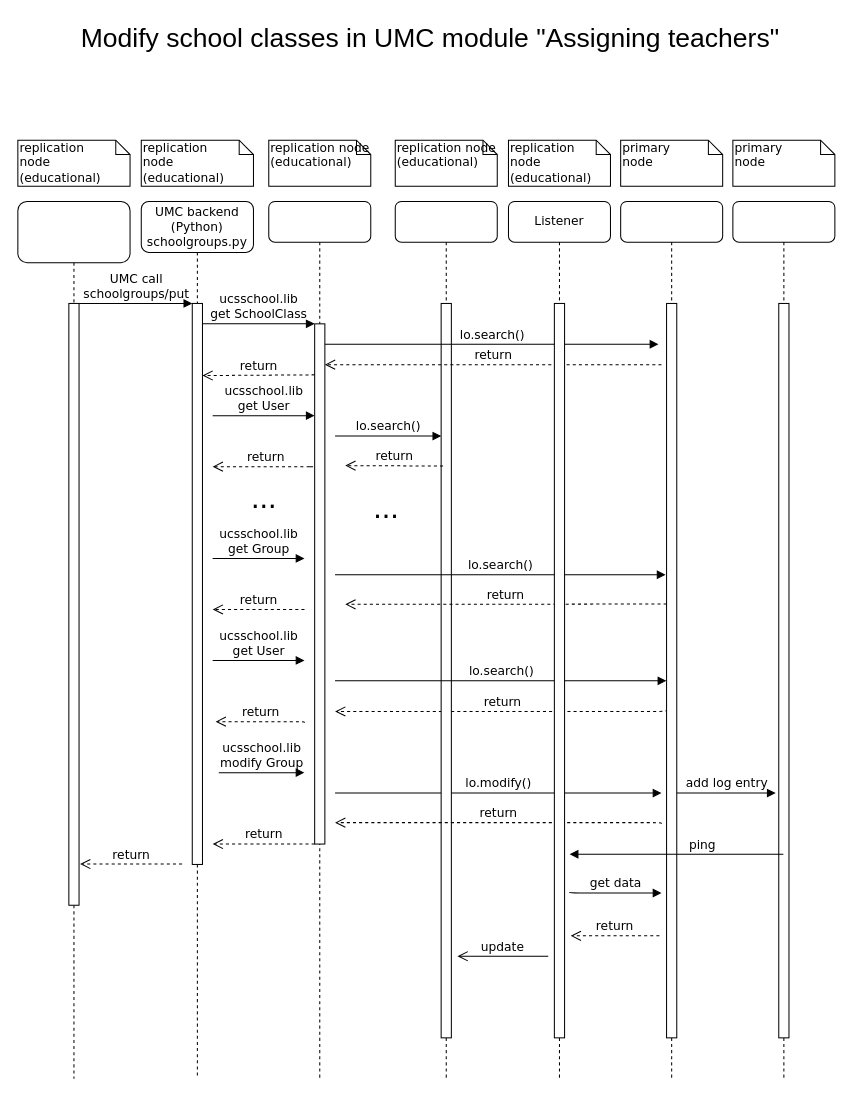
Image size: 853x1097. Some labels were removed from this diagram. The box of each missing label's shape, as (x1, y1, x2, y2) in pixels:
Notifier: (732, 200, 835, 1079)
OpenLDAP: (620, 200, 723, 1079)
OpenLDP: (394, 200, 497, 1079)
ucsschool.lib → UDM: (268, 200, 371, 1079)
UMC fronetend "Assigning teachers" (JS) schoolgroups.js: (17, 200, 130, 1079)
